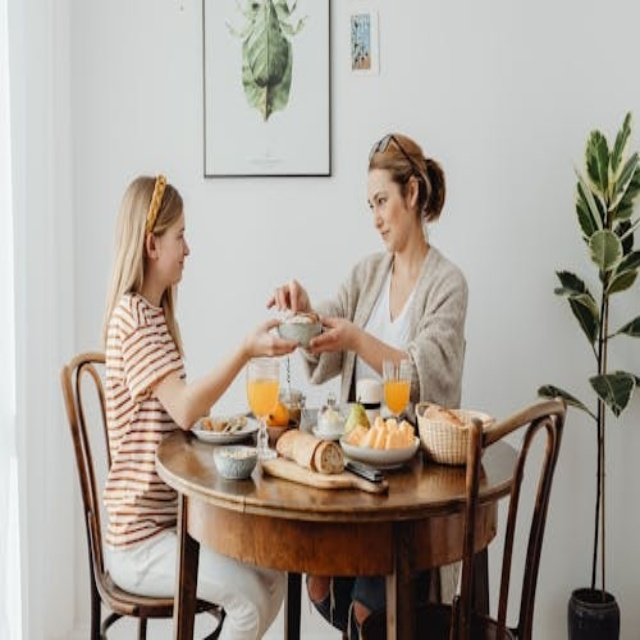Sin_gafas: (163, 221, 189, 246), (370, 194, 388, 210)
Sin_guantes: (252, 315, 305, 360), (305, 317, 350, 357), (270, 278, 312, 319)
Sin_mascara: (374, 217, 401, 248), (165, 250, 191, 275)
